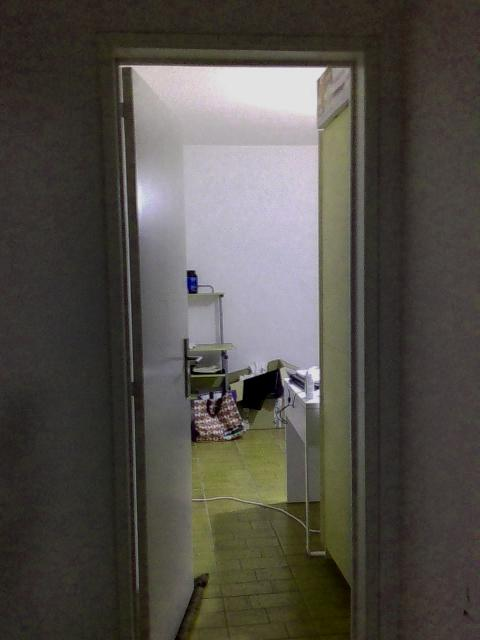open_door: (95, 26, 376, 639)
